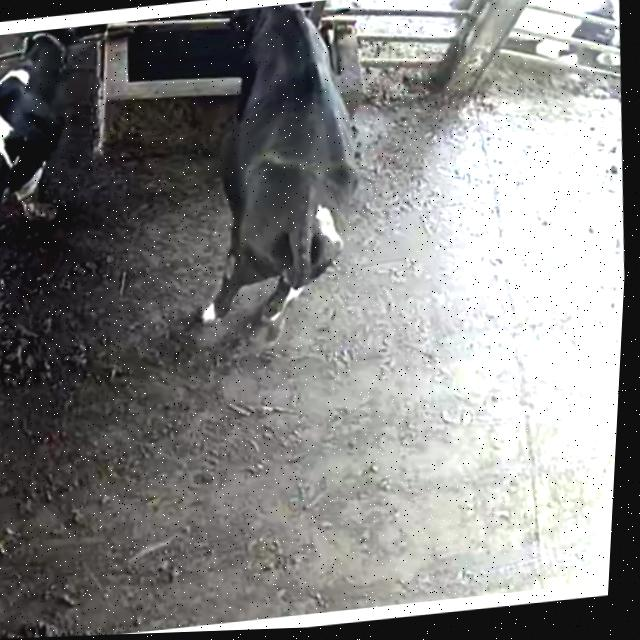drink: (206, 0, 355, 104)
